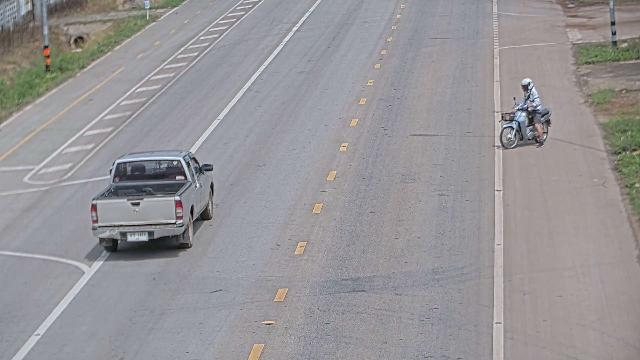motorcycle: (493, 90, 554, 151)
pickup-truck: (89, 149, 215, 252)
